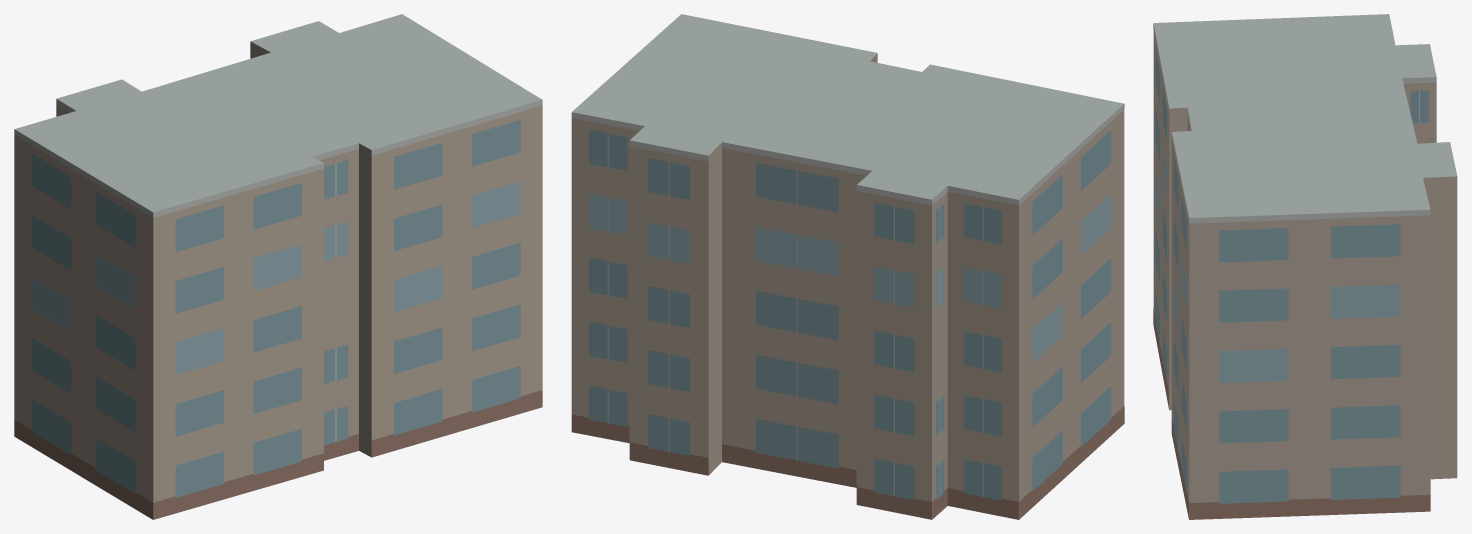
The model's file is survey-upis-32758348.glb.
3 views of the same model, side by side, from view 1: azimuth 30°, elevation 25°; view 2: azimuth 150°, elevation 25°; view 3: azimuth 270°, elevation 25° (orthographic). The views are drawn at different scales.
Parts seen in each view (by area): view 1: survey-upis-32758348.tmp; view 2: survey-upis-32758348.tmp; view 3: survey-upis-32758348.tmp.
Boxes of the visible parts, left/top/right/bottom form: survey-upis-32758348.tmp: left=14, top=14, right=542, bottom=519; survey-upis-32758348.tmp: left=571, top=14, right=1124, bottom=519; survey-upis-32758348.tmp: left=1153, top=14, right=1457, bottom=519.
Bounding box in the file's own units: 19.39 × 13.36 × 12.21.
